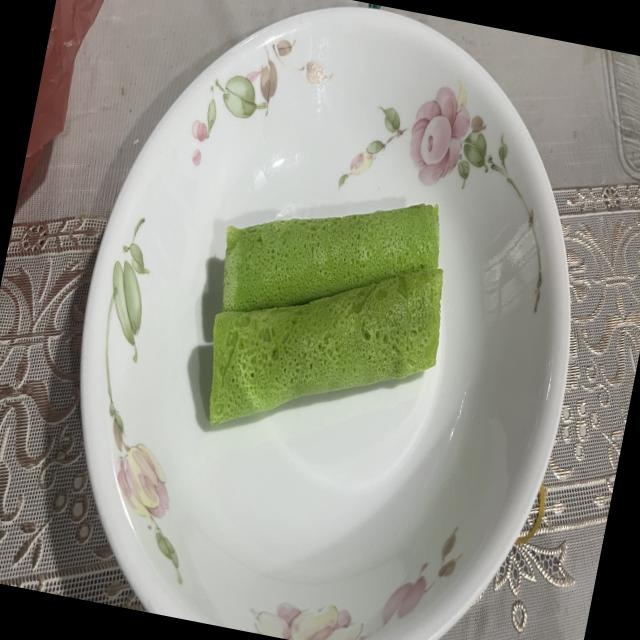Kuih-Ketayap: (209, 268, 443, 425), (222, 204, 439, 312)
